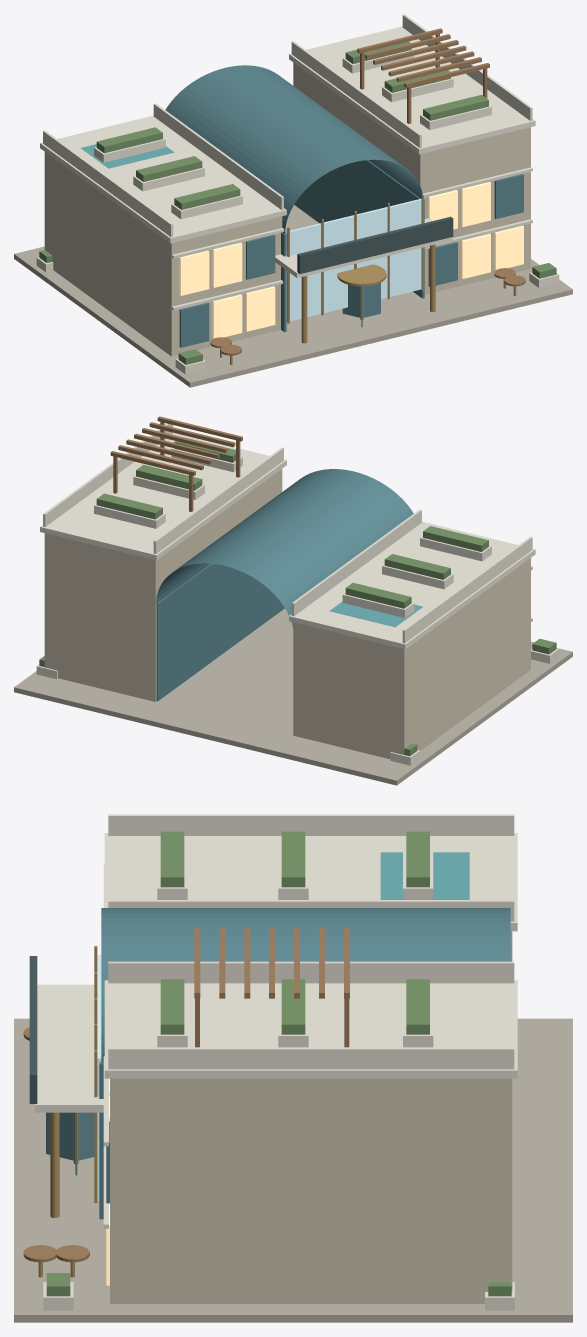
The model's file is shopping-gallery_lod.glb.
The picture shows the model from 3 angles, top to bottom: view 1: azimuth 30°, elevation 25°; view 2: azimuth 150°, elevation 25°; view 3: azimuth 270°, elevation 25°; orthographic projection. The views are drawn at different scales.
Parts seen in each view (by area): view 1: Gallery_Limestone, Atrium_Glass_Vault, Shopping_Plaza, Gallery_Limestone.001, Gallery_Cornice, Gallery_Cornice.001, Atrium_Front_Glazing, Atrium_Side_Glazing.001, Shopping_Gallery_Sign, Rooftop_Parapet, Rooftop_Parapet.001, Rooftop_Parapet.002 (+37 smaller); view 2: Gallery_Limestone, Shopping_Plaza, Gallery_Limestone.001, Atrium_Glass_Vault, Atrium_Side_Glazing.001, Gallery_Cornice, Gallery_Cornice.001, Rooftop_Parapet, Rooftop_Parapet.001, Rooftop_Parapet.002, Rooftop_Parapet.003, Terrace_Hedge.002 (+18 smaller); view 3: Gallery_Limestone.001, Shopping_Plaza, Gallery_Cornice.001, Atrium_Glass_Vault, Gallery_Cornice, Rooftop_Parapet.003, Rooftop_Parapet, Rooftop_Parapet.002, Entrance_Canopy, Rooftop_Parapet.001, Roof_Reflecting_Pool, Terrace_Hedge (+17 smaller).
Part boxes in pixels (bbox=[...]): Gallery_Limestone: bbox=[44, 152, 282, 356]; Atrium_Glass_Vault: bbox=[165, 65, 422, 233]; Shopping_Plaza: bbox=[14, 205, 572, 387]; Gallery_Limestone.001: bbox=[293, 62, 530, 294]; Gallery_Cornice: bbox=[40, 115, 286, 243]; Gallery_Cornice.001: bbox=[289, 26, 535, 154]; Atrium_Front_Glazing: bbox=[287, 199, 421, 321]; Atrium_Side_Glazing.001: bbox=[294, 160, 424, 298]; Shopping_Gallery_Sign: bbox=[297, 216, 453, 273]; Rooftop_Parapet: bbox=[43, 130, 173, 236]; Rooftop_Parapet.001: bbox=[153, 103, 283, 209]; Rooftop_Parapet.002: bbox=[291, 41, 421, 147]; Gallery_Limestone: bbox=[293, 558, 530, 758]; Shopping_Plaza: bbox=[14, 608, 572, 785]; Gallery_Limestone.001: bbox=[44, 469, 282, 701]; Atrium_Glass_Vault: bbox=[156, 469, 413, 628]; Atrium_Side_Glazing.001: bbox=[156, 563, 284, 701]; Gallery_Cornice: bbox=[289, 521, 535, 649]; Gallery_Cornice.001: bbox=[40, 432, 286, 560]; Rooftop_Parapet: bbox=[402, 536, 532, 643]; Rooftop_Parapet.001: bbox=[291, 509, 421, 616]; Rooftop_Parapet.002: bbox=[153, 447, 283, 553]; Rooftop_Parapet.003: bbox=[43, 423, 173, 526]; Terrace_Hedge.002: bbox=[345, 582, 411, 608]; Gallery_Limestone.001: bbox=[110, 1078, 512, 1303]; Shopping_Plaza: bbox=[14, 1018, 572, 1322]; Gallery_Cornice.001: bbox=[104, 980, 517, 1078]; Atrium_Glass_Vault: bbox=[101, 908, 510, 1063]; Gallery_Cornice: bbox=[104, 833, 517, 931]; Rooftop_Parapet.003: bbox=[108, 1047, 514, 1069]; Rooftop_Parapet: bbox=[108, 814, 514, 835]; Rooftop_Parapet.002: bbox=[108, 961, 514, 983]; Entrance_Canopy: bbox=[35, 984, 103, 1112]; Rooftop_Parapet.001: bbox=[108, 900, 514, 921]; Roof_Reflecting_Pool: bbox=[380, 852, 469, 899]; Terrace_Hedge: bbox=[160, 831, 184, 887].
Bounding box in the file's own units: 19.7 × 9.59 × 15.7.
